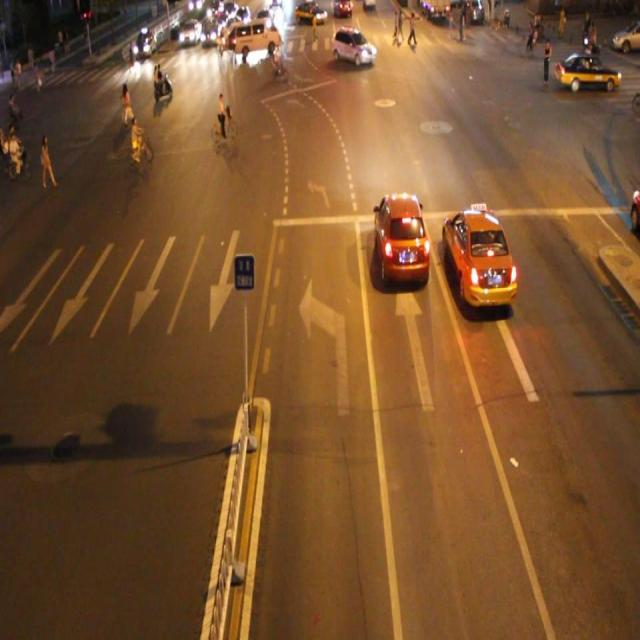car: (440, 205, 518, 309), (373, 192, 429, 288)
truck: (232, 18, 282, 56), (332, 26, 375, 68)
